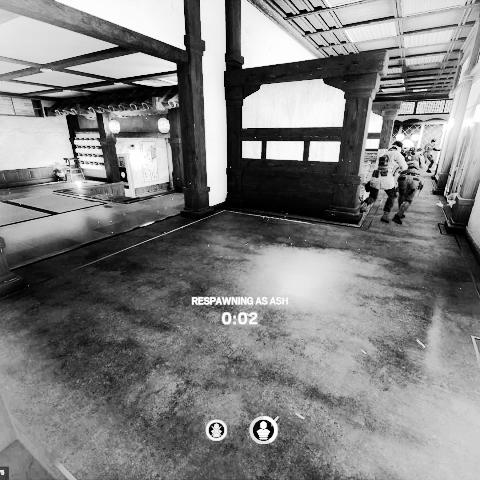Character: (359, 138, 408, 224), (392, 139, 426, 226), (421, 137, 443, 173)
Head: (390, 139, 402, 152), (403, 140, 414, 152)
